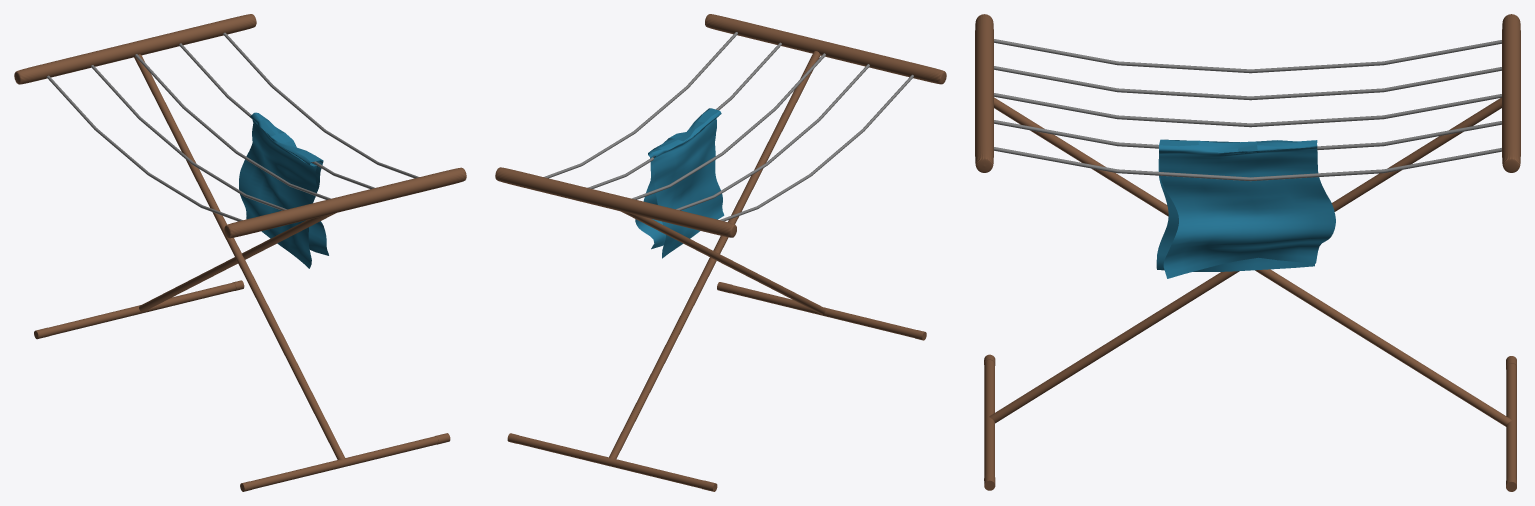
Rendered from clothesline.fbx.
The picture shows the model from 3 angles, left to right: view 1: azimuth 30°, elevation 25°; view 2: azimuth 150°, elevation 25°; view 3: azimuth 270°, elevation 25°; orthographic projection. The views are drawn at different scales.
Parts seen in each view (by area): view 1: Cylinder.003; view 2: Cylinder.003; view 3: Cylinder.003.
Part boxes in pixels (x1,y1,x2,y2): Cylinder.003: [14, 14, 466, 491]; Cylinder.003: [495, 14, 946, 491]; Cylinder.003: [975, 14, 1520, 491].
Size of the model in its own units: 457 by 501 by 725.
